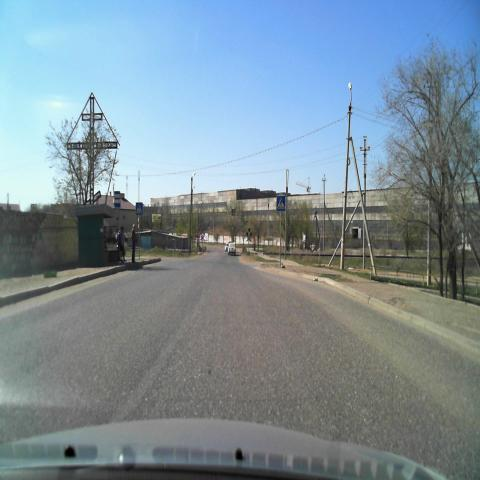5_16: (114, 191, 120, 207)
5_19_1: (276, 195, 286, 211), (136, 202, 142, 214)
